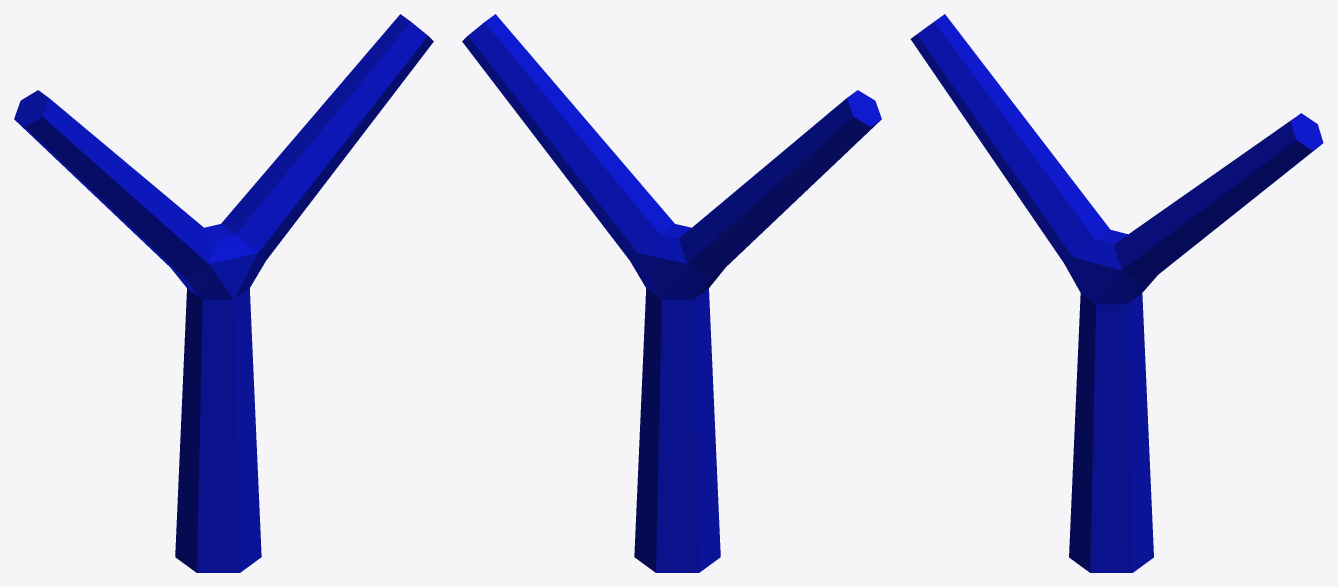
File: slingshot.fbx
3 views of the same model, side by side, from view 1: azimuth 30°, elevation 25°; view 2: azimuth 150°, elevation 25°; view 3: azimuth 330°, elevation 25° (orthographic).
Visible parts, largest first — view 1: Cylinder.001; view 2: Cylinder.001; view 3: Cylinder.001.
Boxes of the visible parts, x1,y1,x2,y2 form: Cylinder.001: (14,14,433,572); Cylinder.001: (462,14,881,572); Cylinder.001: (910,14,1323,572).
Size of the model in its own units: 218 by 258 by 40.
